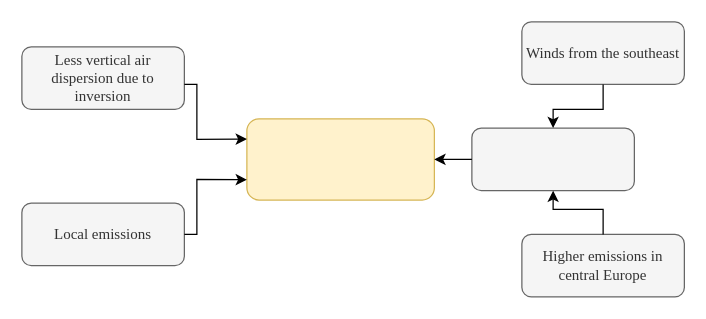
This 706x319 diagram has some shape labels left out. Each missing label, with the box of its shape:
Aerosol increase in southern Sweden during high-pressure blocking: (246, 118, 434, 200)
More advection of aerosols: (471, 127, 634, 191)
